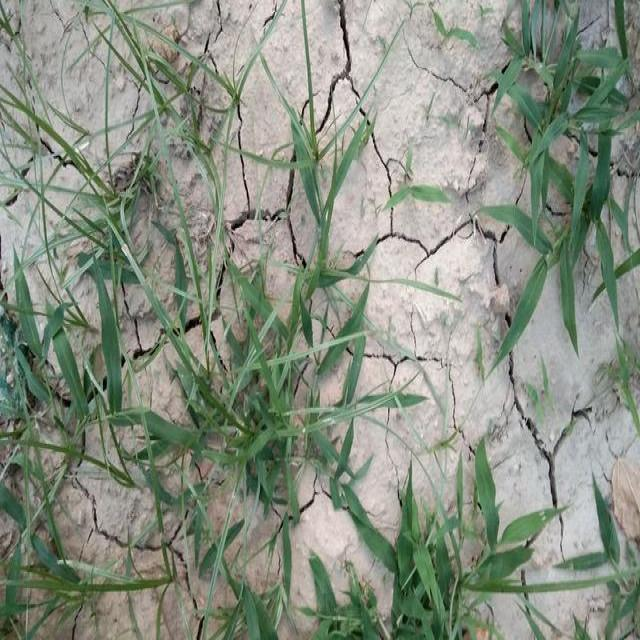weed: (68, 201, 370, 640), (485, 0, 640, 376), (68, 0, 243, 253), (4, 259, 81, 640), (382, 468, 520, 640), (589, 488, 640, 640)
